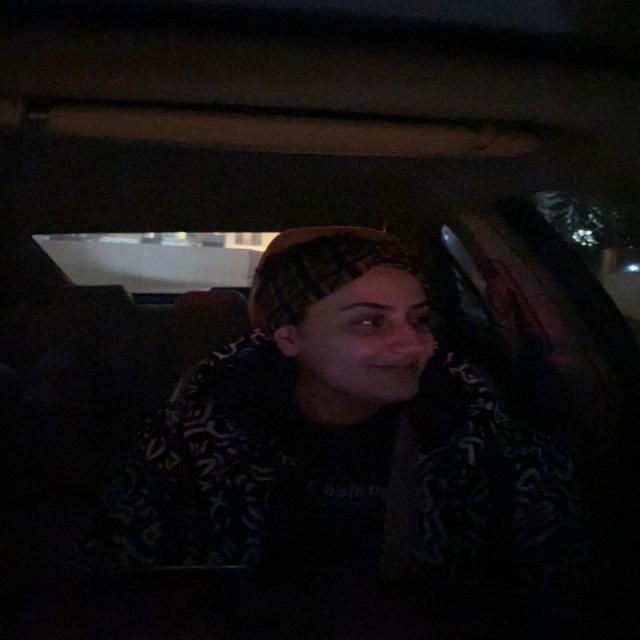LeftRight: (250, 229, 448, 433)
